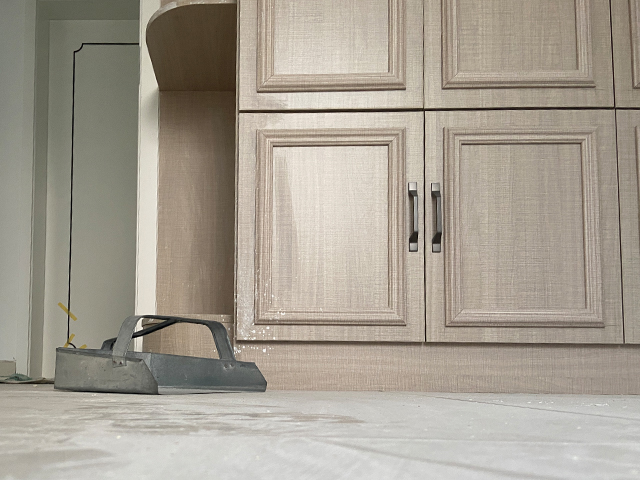cabinet: (139, 1, 640, 397)
carpet: (1, 372, 57, 386)
